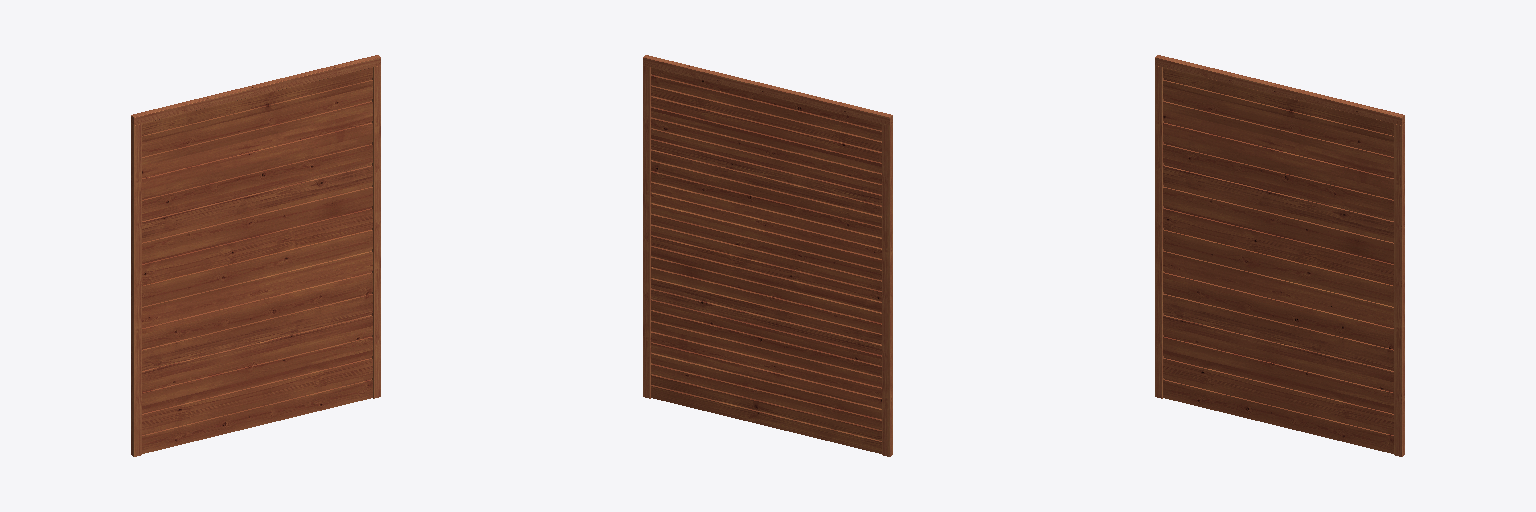
3 renders of one model, left to right at view 1: azimuth 30°, elevation 25°; view 2: azimuth 150°, elevation 25°; view 3: azimuth 330°, elevation 25°, orthographic.
Visible parts, largest first — view 1: wall_planks, trim_left, trim_top, trim_right; view 2: wall_planks, trim_left, trim_top, trim_right; view 3: wall_planks, trim_right, trim_top, trim_left.
Boxes of the visible parts, x1,y1,x2,y2 form: wall_planks: [142, 68, 372, 453]; trim_left: [131, 124, 141, 456]; trim_top: [131, 55, 380, 125]; trim_right: [372, 66, 380, 398]; wall_planks: [651, 68, 881, 453]; trim_left: [882, 124, 892, 456]; trim_top: [643, 55, 892, 125]; trim_right: [643, 66, 651, 398]; wall_planks: [1163, 68, 1393, 453]; trim_right: [1394, 124, 1404, 456]; trim_top: [1155, 55, 1404, 125]; trim_left: [1155, 66, 1163, 398].
Size of the model in its own units: 72 by 94.5 by 1.82.
Materials: 2 (2 with a texture image).